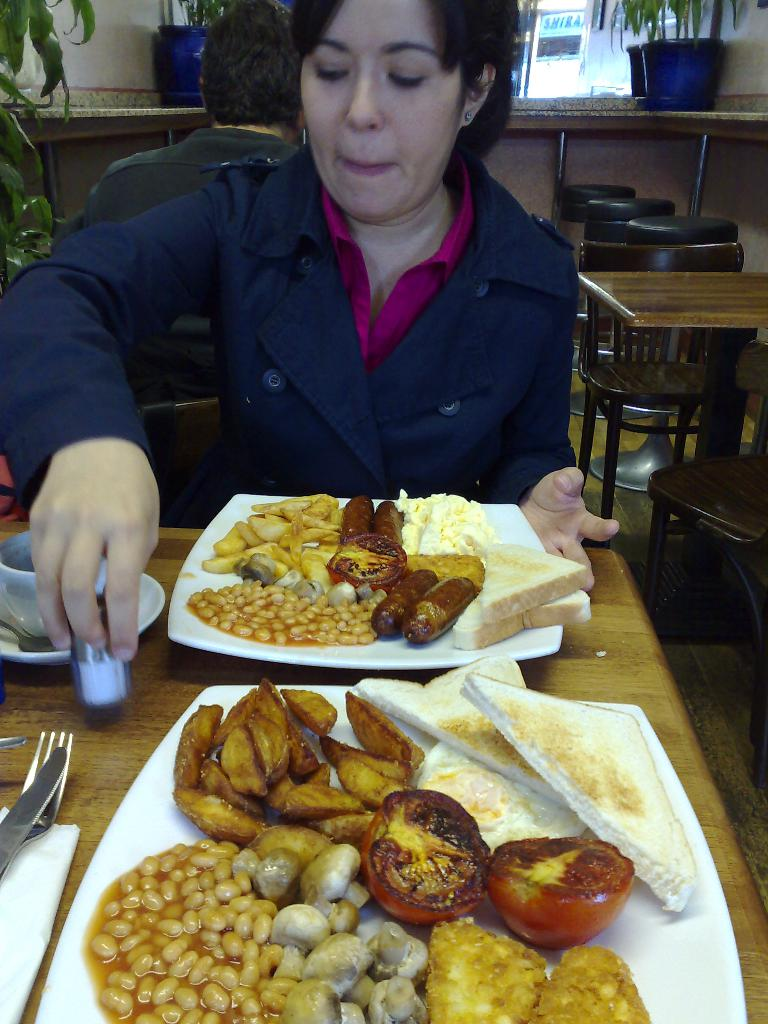French fries: (172, 673, 435, 866), (200, 487, 351, 590)
